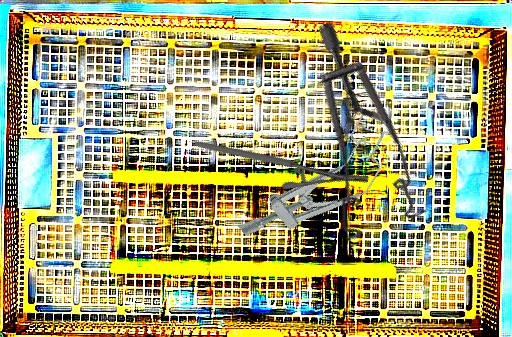Needle Holder: (193, 89, 371, 233)
Speculum: (225, 17, 474, 269), (229, 104, 413, 268)
